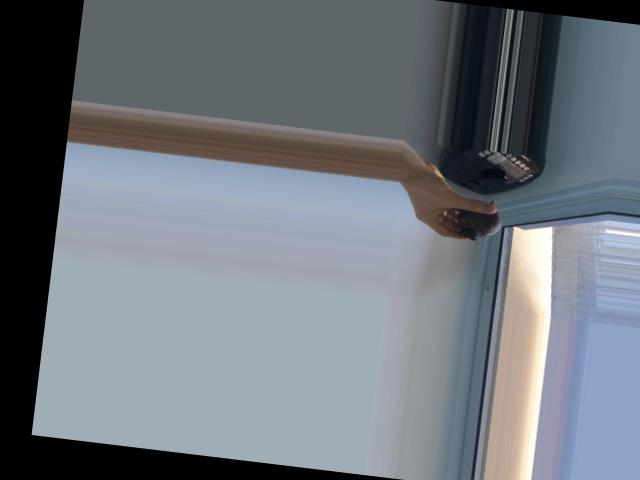beet: (450, 194, 504, 243)
